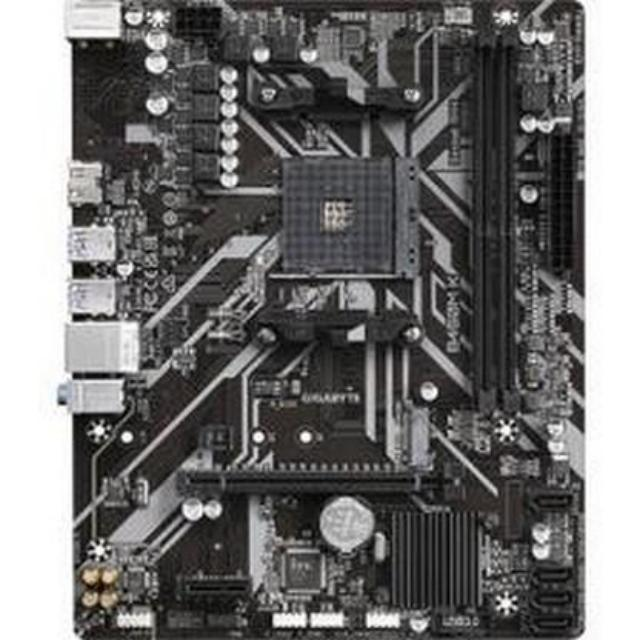Mainboard: (51, 0, 604, 640)
